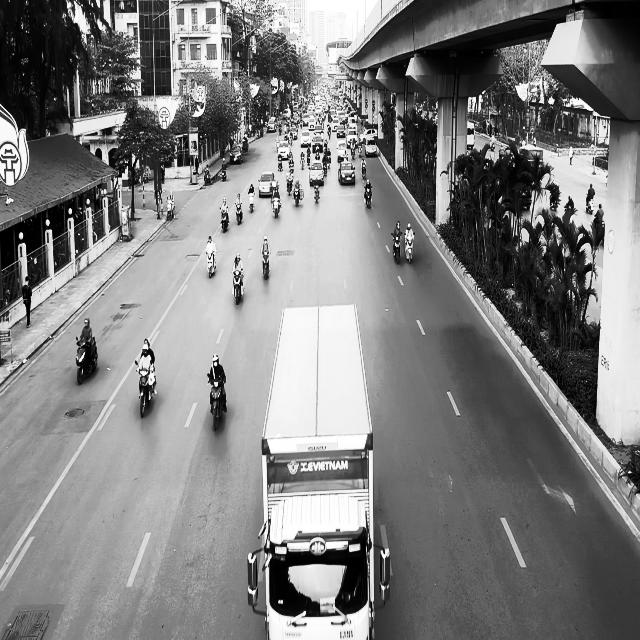car: (258, 172, 277, 198), (338, 161, 355, 185), (230, 144, 243, 164)
motorbike: (135, 360, 156, 417), (75, 336, 98, 384), (207, 374, 226, 431), (232, 269, 244, 304), (391, 232, 402, 264), (206, 246, 216, 278), (404, 232, 414, 263), (261, 252, 270, 279), (293, 184, 303, 207), (363, 183, 372, 208), (271, 195, 281, 217), (220, 206, 228, 232), (235, 202, 243, 225), (586, 193, 594, 214), (248, 192, 255, 212), (314, 180, 320, 203)
truck: (247, 303, 391, 639)
